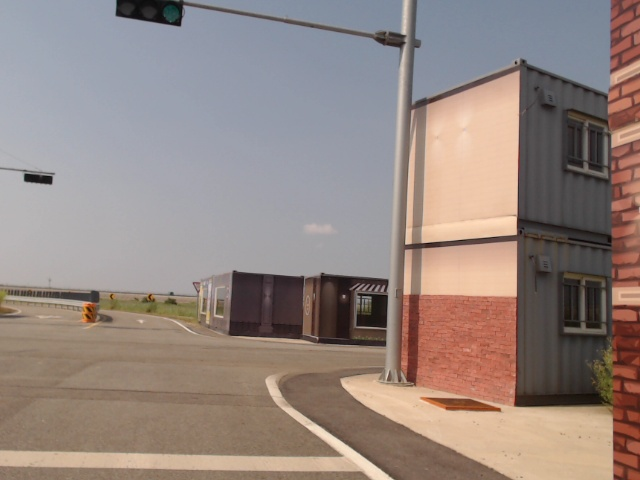green_3: (117, 0, 182, 26)
